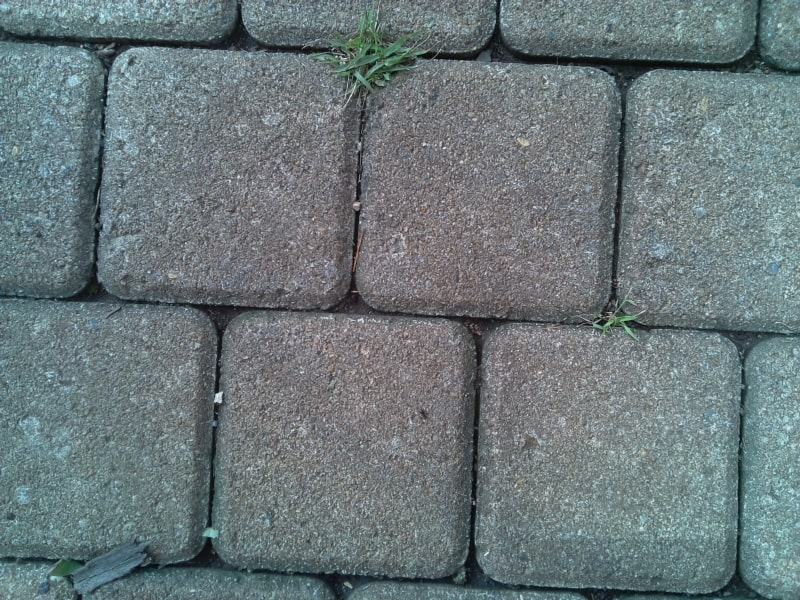Weed: (324, 24, 421, 93), (585, 303, 645, 340)
